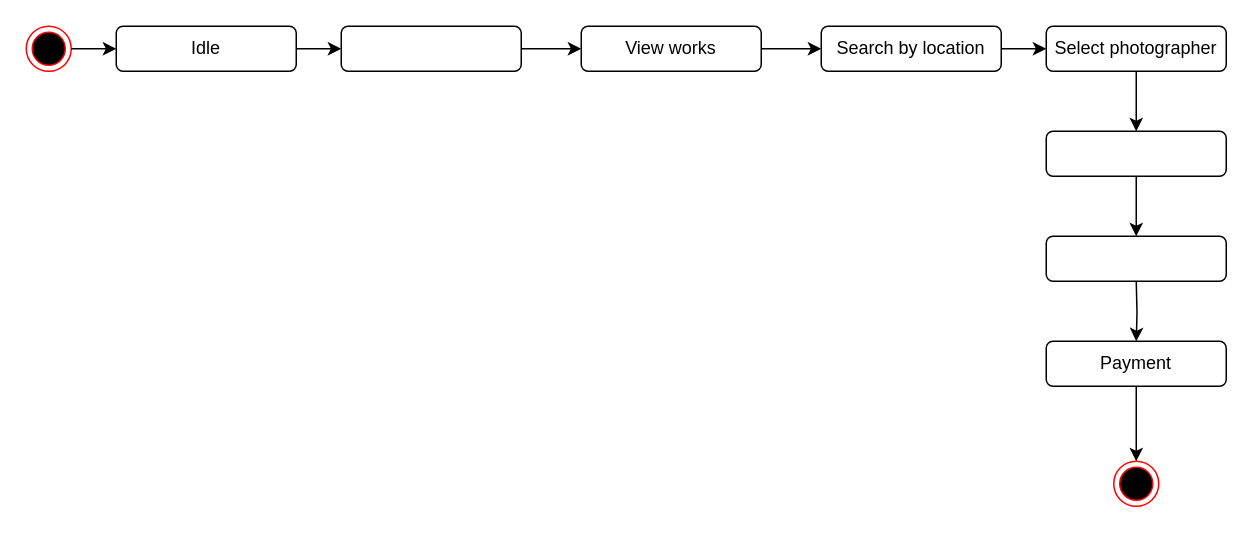
Image size: 1253x533. Some labels were removed from this diagram. Here are the shapes that lost their labels. From the top down, the centre of each, then its label:
At point (430, 48): "Login".
At point (1135, 153): "Contact with photographer".
At point (1135, 258): "Confirm Work".
